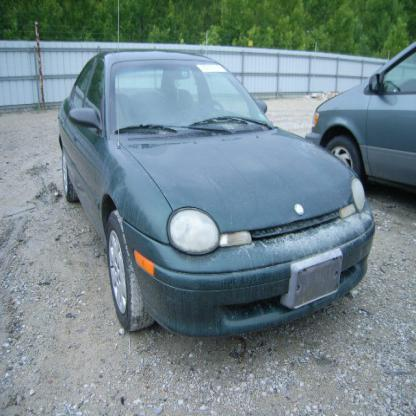Vehicle: (57, 47, 378, 339)
